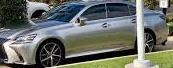Cars: (5, 3, 167, 68)
